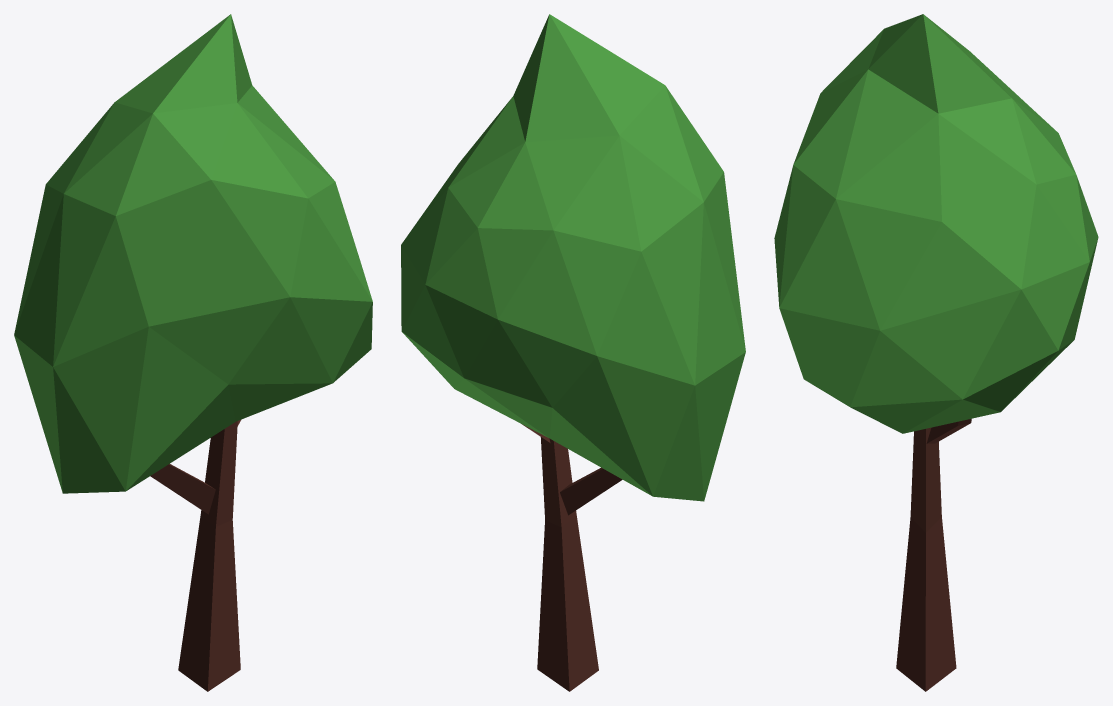
Rendered from tree_basic.fbx.
The picture shows the model from 3 angles, left to right: view 1: azimuth 30°, elevation 25°; view 2: azimuth 150°, elevation 25°; view 3: azimuth 270°, elevation 25°; orthographic projection. The views are drawn at different scales.
Visible parts, largest first — view 1: Tree; view 2: Tree; view 3: Tree.
Part boxes in pixels (x1=…): Tree: x1=14, y1=14, x2=372, y2=691; Tree: x1=401, y1=14, x2=745, y2=691; Tree: x1=774, y1=14, x2=1098, y2=691.
Bounding box in the file's own units: 357 × 744 × 325.
